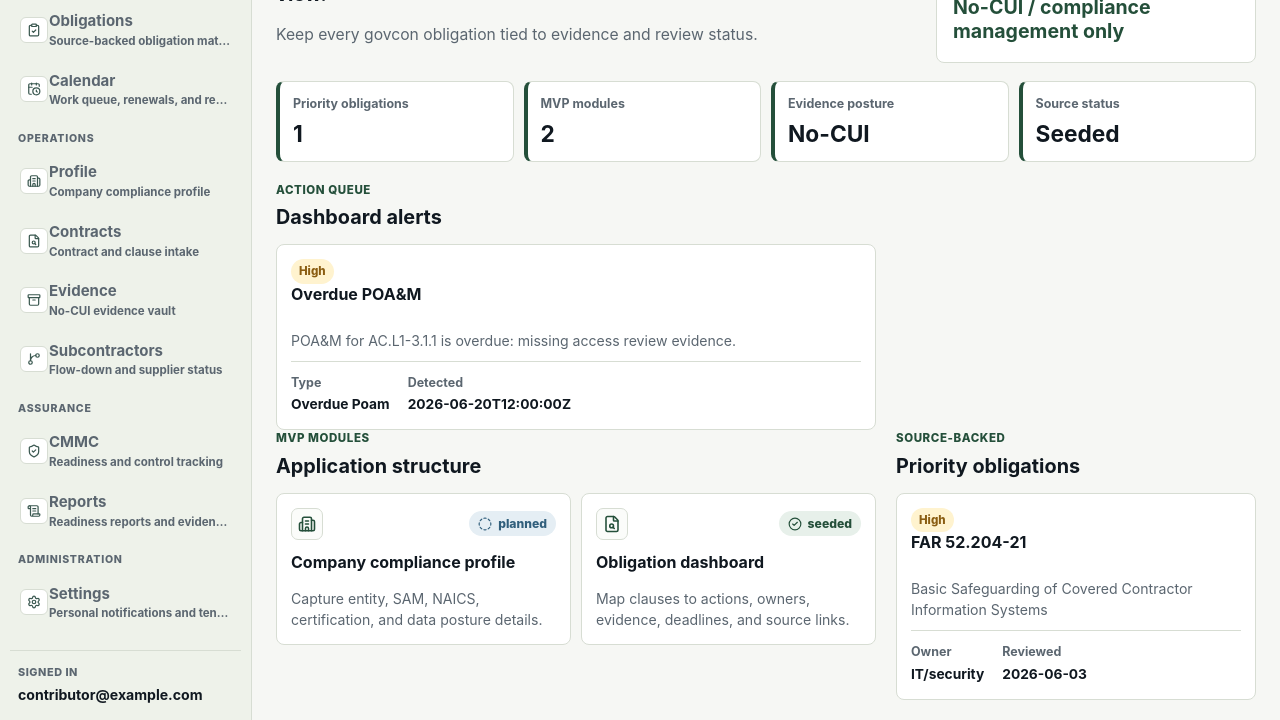
it: App › shows Contributor self-service notification preferences without tenant administration controls
(page scrolled)
Click the link "Settings" at coordinates (79, 593), box [10,575,241,630]
(page scrolled)
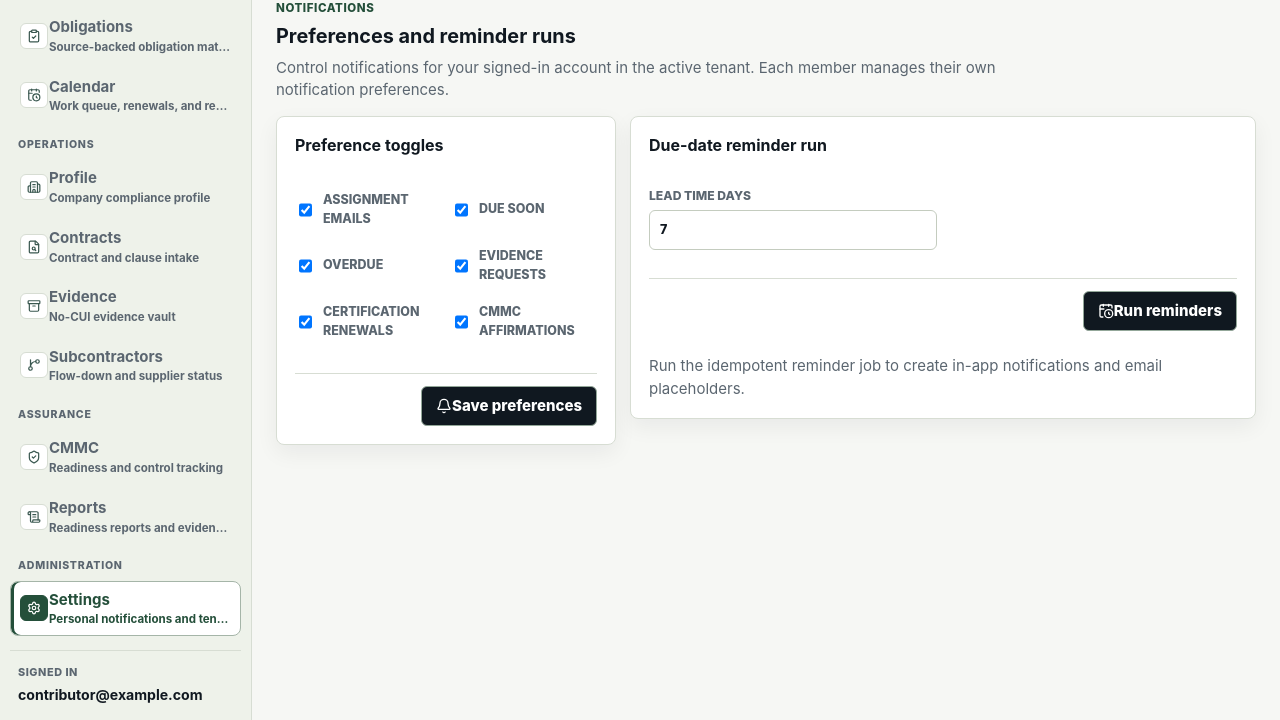
Expected: the heading "Preferences and reminder runs" is shown, [276,24,576,48]
